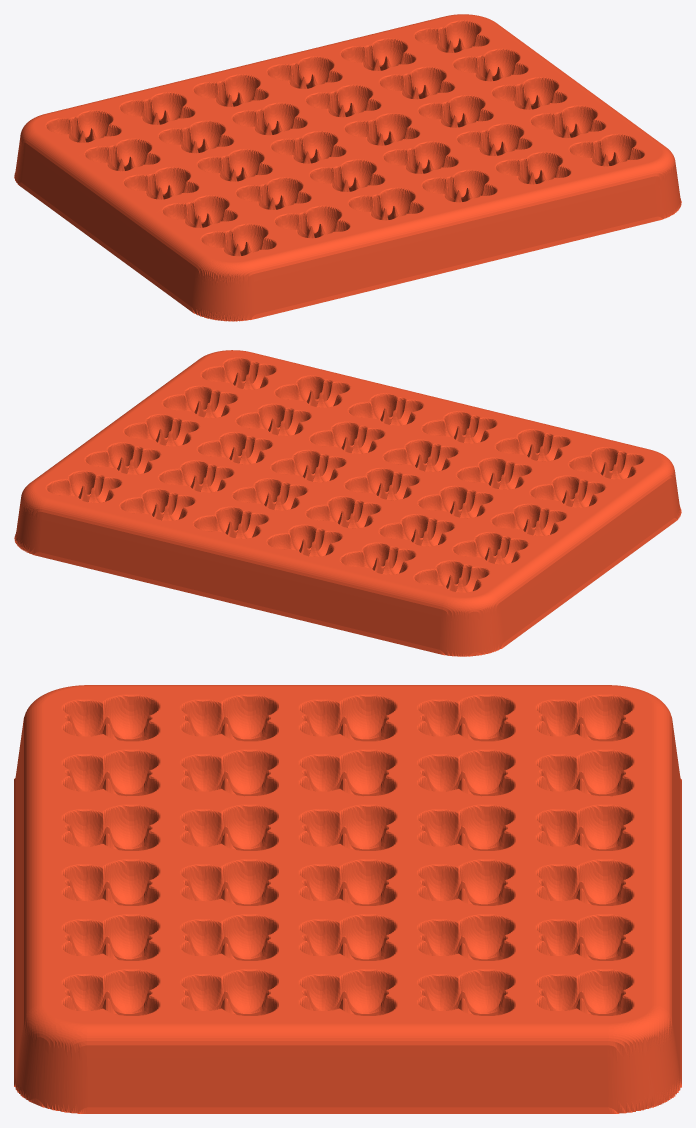
Rendered from mold.glb.
3 views of the same model, one above another, from view 1: azimuth 30°, elevation 25°; view 2: azimuth 150°, elevation 25°; view 3: azimuth 270°, elevation 25° (orthographic). The views are drawn at different scales.
Visible parts, largest first — view 1: geometry_0; view 2: geometry_0; view 3: geometry_0.
Boxes of the visible parts, x1,y1,x2,y2 form: geometry_0: (14, 14, 681, 321); geometry_0: (14, 350, 681, 656); geometry_0: (14, 685, 681, 1113).
Bounding box in the file's own units: 0.104 × 0.0104 × 0.0812.
